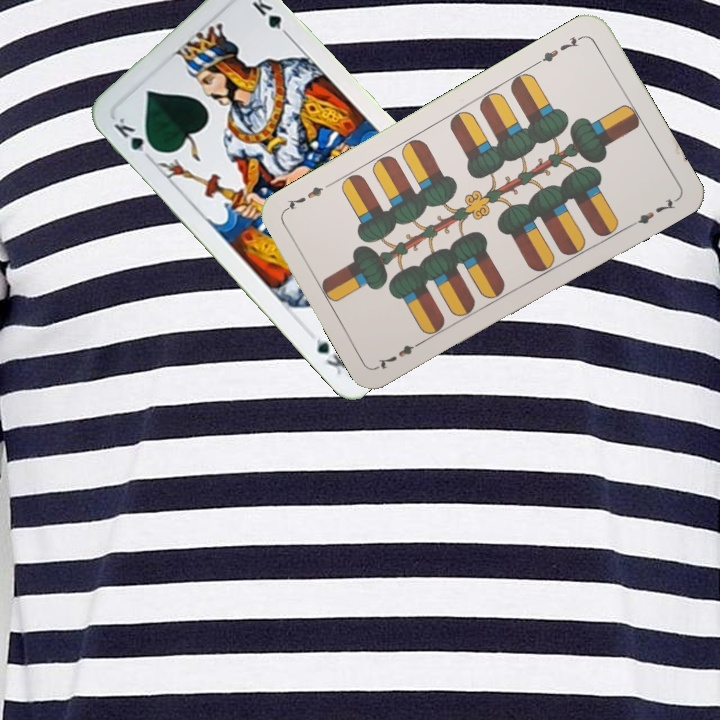E7: (374, 335, 428, 372), (532, 31, 586, 67)
GK: (109, 113, 160, 163)
